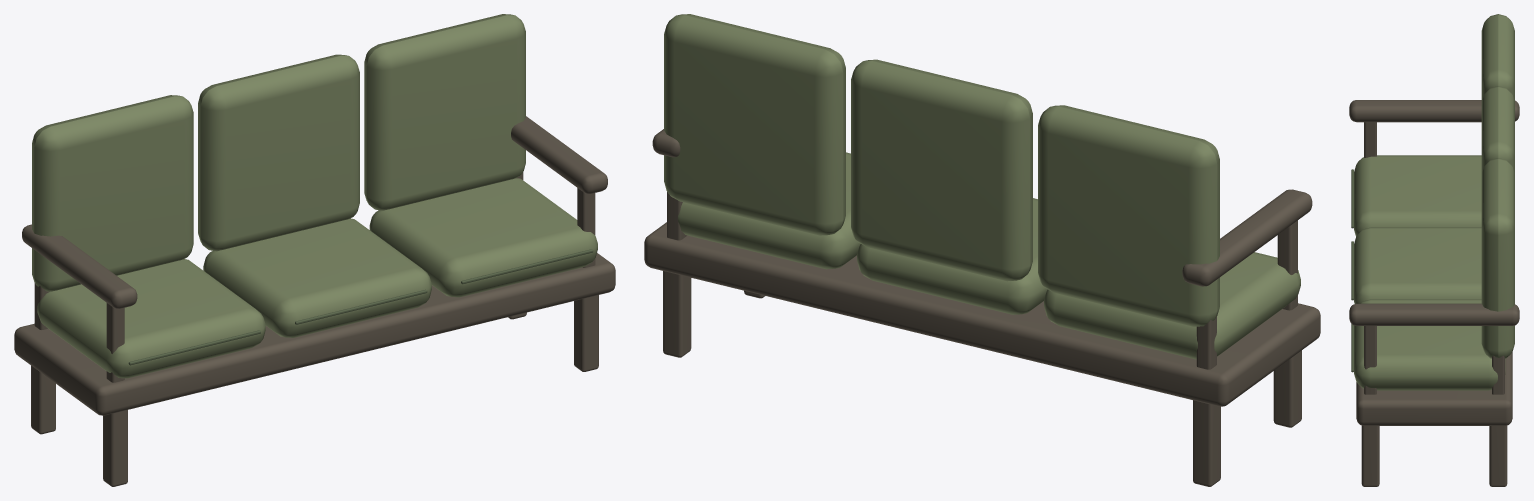
Rendered from hospital-bench.glb.
3 views of the same model, side by side, from view 1: azimuth 30°, elevation 25°; view 2: azimuth 150°, elevation 25°; view 3: azimuth 270°, elevation 25° (orthographic). The views are drawn at different scales.
Parts seen in each view (by area): view 1: back_1, back_2, back_0, support_rail, seat_1, seat_2, seat_0, arm_-1.02, arm_1.02, leg_1.02_-0.27, leg_-1.02_-0.27, leg_-1.02_0.27 (+2 smaller); view 2: back_1, back_2, back_0, support_rail, seat_0, seat_1, seat_2, arm_-1.02, leg_1.02_0.27, leg_-1.02_0.27, leg_-1.02_-0.27, arm_post_-1.02_-0.27 (+1 smaller); view 3: seat_0, seat_1, seat_2, back_2, support_rail, arm_1.02, arm_-1.02, back_0, back_1, leg_1.02_-0.27, leg_1.02_0.27, arm_post_1.02_-0.27 (+2 smaller).
Part boxes in pixels (x1,y1,x2,y2): back_1: [198, 54, 359, 251]; back_2: [364, 14, 525, 210]; back_0: [32, 95, 193, 291]; support_rail: [14, 253, 615, 415]; seat_1: [203, 218, 431, 337]; seat_2: [369, 178, 597, 297]; seat_0: [37, 259, 265, 378]; arm_-1.02: [22, 224, 137, 308]; arm_1.02: [511, 116, 607, 193]; leg_1.02_-0.27: [574, 295, 598, 371]; leg_-1.02_-0.27: [103, 410, 127, 486]; leg_-1.02_0.27: [31, 365, 55, 434]; back_1: [851, 59, 1032, 281]; back_2: [664, 14, 845, 235]; back_0: [1038, 105, 1219, 326]; support_rail: [644, 222, 1320, 406]; seat_0: [1044, 252, 1300, 359]; seat_1: [857, 198, 1047, 314]; seat_2: [678, 152, 860, 269]; arm_-1.02: [1182, 189, 1312, 286]; leg_1.02_0.27: [663, 271, 691, 357]; leg_-1.02_0.27: [1193, 400, 1220, 486]; leg_-1.02_-0.27: [1273, 350, 1301, 427]; arm_post_-1.02_-0.27: [1277, 220, 1297, 310]; seat_0: [1354, 155, 1481, 236]; seat_1: [1354, 227, 1481, 303]; seat_2: [1354, 299, 1505, 390]; back_2: [1481, 158, 1514, 358]; support_rail: [1356, 352, 1512, 425]; arm_1.02: [1349, 303, 1519, 325]; arm_-1.02: [1349, 100, 1519, 122]; back_0: [1481, 14, 1514, 101]; back_1: [1481, 86, 1514, 173]; leg_1.02_-0.27: [1361, 425, 1379, 486]; leg_1.02_0.27: [1489, 425, 1507, 486]; arm_post_1.02_-0.27: [1364, 326, 1376, 394].
Bounding box in the file's own units: 2.25 × 1.25 × 0.72.
